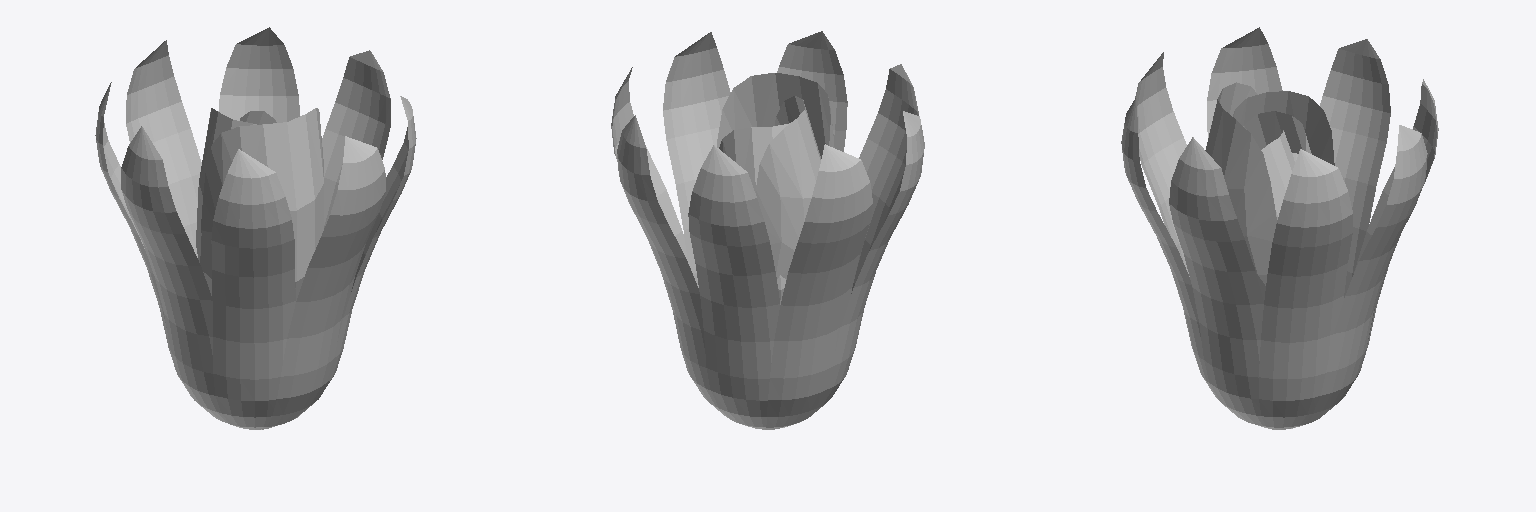
The model's file is FlowerTopModel_03_seq_0019.obj.
3 views of the same model, side by side, from view 1: azimuth 30°, elevation 25°; view 2: azimuth 150°, elevation 25°; view 3: azimuth 270°, elevation 25° (orthographic).
Visible parts, largest first — view 1: FlowerTopModel_03; view 2: FlowerTopModel_03; view 3: FlowerTopModel_03.
Part boxes in pixels (left/top/right/bottom): FlowerTopModel_03: left=95, top=27, right=416, bottom=429; FlowerTopModel_03: left=611, top=31, right=924, bottom=429; FlowerTopModel_03: left=1121, top=27, right=1438, bottom=429.
Size of the model in its own units: 311 by 364 by 311.